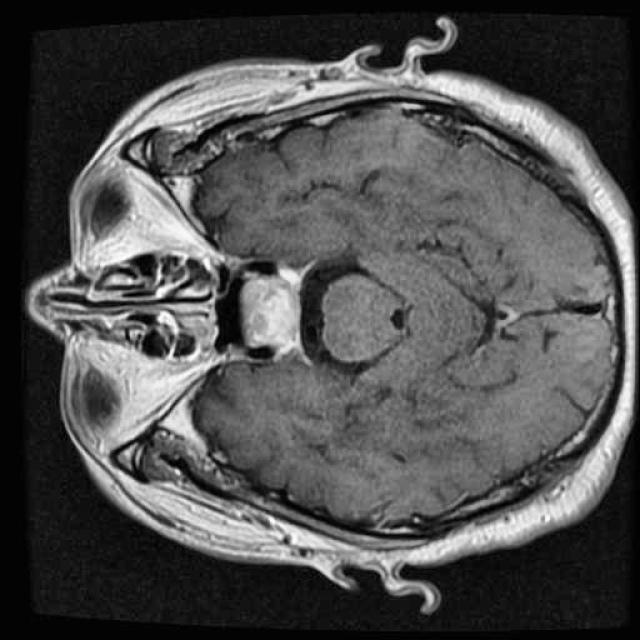Tumor: (224, 262, 314, 369)
